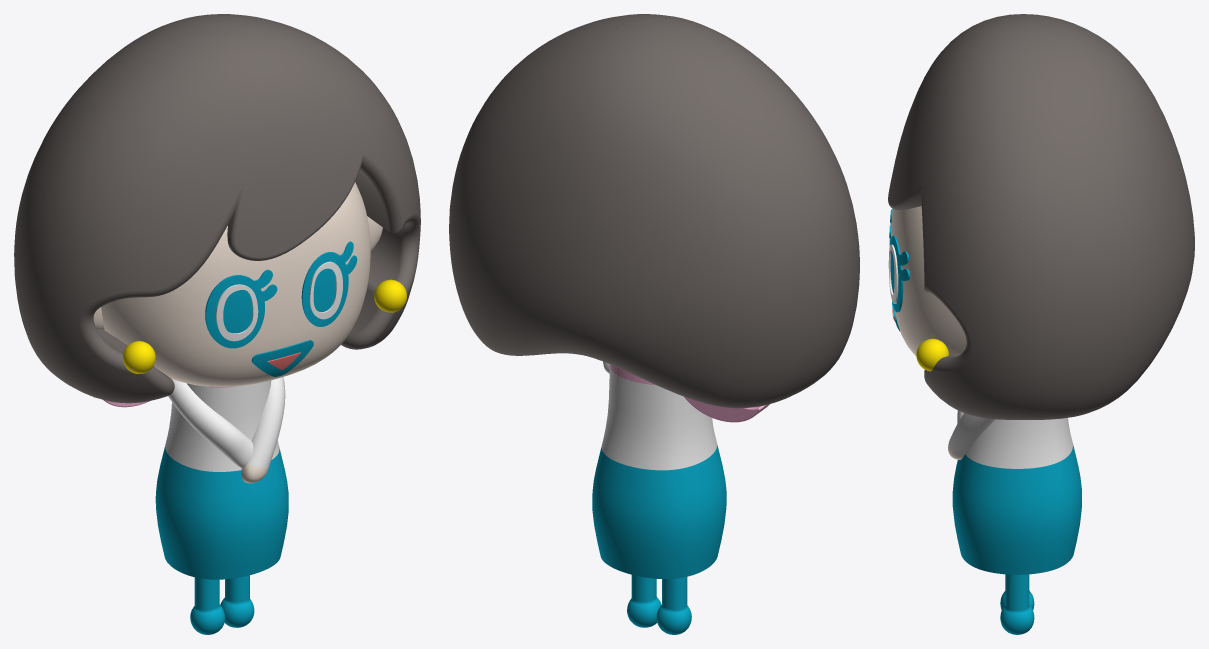
3 renders of one model, left to right at view 1: azimuth 30°, elevation 25°; view 2: azimuth 150°, elevation 25°; view 3: azimuth 270°, elevation 25°, orthographic.
Visible parts, largest first — view 1: 019_Lawson_chikasan; view 2: 019_Lawson_chikasan; view 3: 019_Lawson_chikasan.
Part boxes in pixels (<box>): 019_Lawson_chikasan: <box>14,14,420,634</box>; 019_Lawson_chikasan: <box>449,14,859,634</box>; 019_Lawson_chikasan: <box>888,14,1194,634</box>.
Bounding box in the file's own units: 0.086 × 0.132 × 0.0616.
